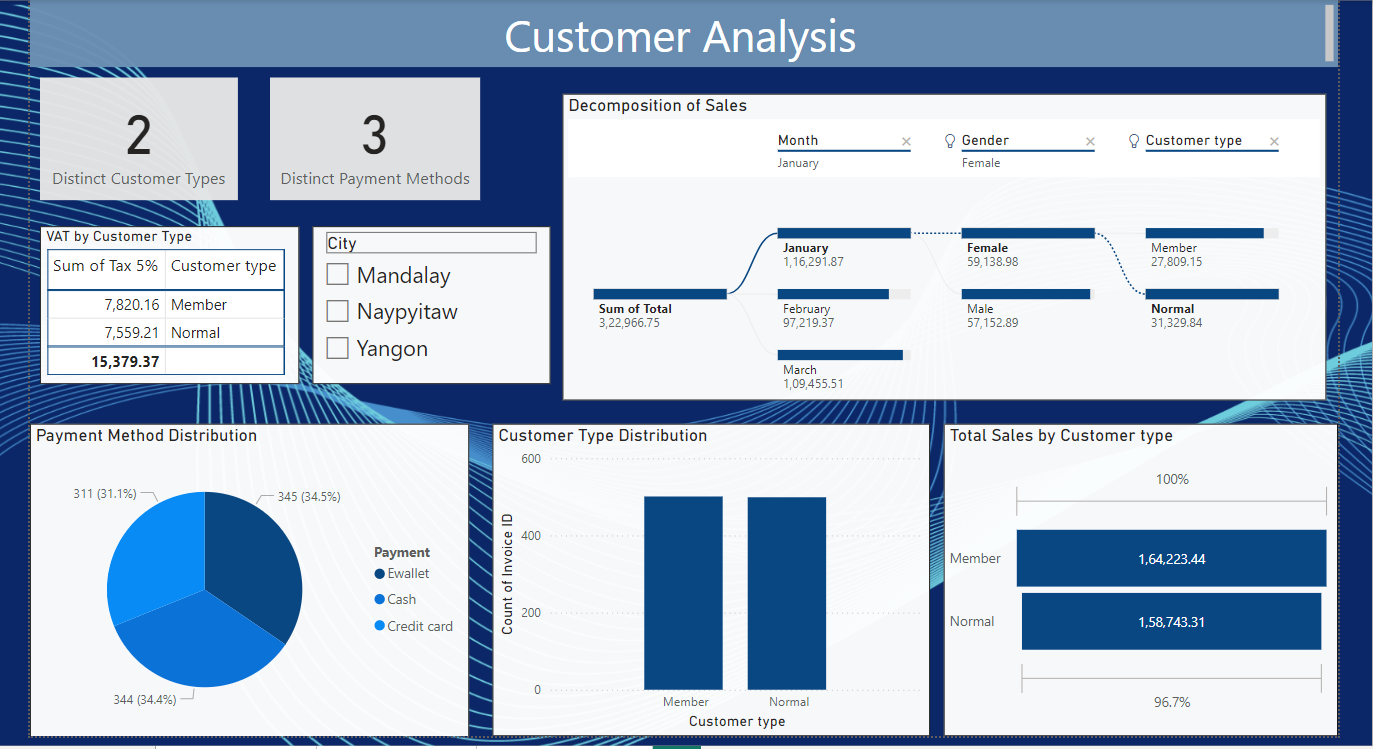

Layout of this report page (visuals, bound fields, positions):
{"tool":"powerbi","page":{"name":"Customer Analysis","canvas":[1280,720],"ordinal":2},"visuals":[{"type":"textbox","box":[0,0,1280.3,65.9],"z":0},{"type":"pieChart","title":"Payment Method Distribution","fields":{"Y":["CountNonNull(Amazon.Invoice ID)"],"Category":["Amazon.Payment"]},"box":[0,414.4,429.5,306],"z":1000},{"type":"card","fields":{"Values":["Count(Amazon.Customer type)"]},"box":[9.5,76.4,193.6,120],"z":2000},{"type":"card","fields":{"Values":["Count(Amazon.Payment)"]},"box":[234.5,76.4,205.9,120],"z":3000},{"type":"columnChart","title":"Customer Type Distribution","fields":{"Y":["CountNonNull(Amazon.Invoice ID)"],"Category":["Amazon.Customer type"]},"box":[452.7,414.5,428.1,305.4],"z":4000},{"type":"funnel","title":"Total Sales by Customer type","fields":{"Category":["Amazon.Customer type"],"Y":["Sum(Amazon.Total)"]},"box":[894.4,414.5,385.9,305.4],"z":5000},{"type":"tableEx","title":"VAT by Customer Type","fields":{"Values":["Sum(Amazon.Tax 5%)","Amazon.Customer type"]},"box":[9.5,220.9,253.6,154.1],"z":6000},{"type":"decompositionTreeVisual","title":"Decomposition of Sales","fields":{"ExplainBy":["Amazon.Date.Variation.Date Hierarchy.Month","Amazon.Gender","Amazon.Customer type"],"Analyze":["Sum(Amazon.Total)"]},"box":[520.8,91.4,747.2,300],"z":7000},{"type":"slicer","fields":{"Values":["Amazon.City"]},"box":[276.8,220.9,233.1,154.1],"z":7001}]}

Visuals, with their boxes in screenshot pixels (x1, y1, x2, y2):
textbox: l=25, t=0, r=1335, b=64
"Payment Method Distribution" pieChart: l=25, t=421, r=465, b=734
card - Count(Amazon.Customer type): l=35, t=75, r=233, b=197
card - Count(Amazon.Payment): l=265, t=75, r=476, b=197
"Customer Type Distribution" columnChart: l=488, t=421, r=927, b=733
"Total Sales by Customer type" funnel: l=940, t=421, r=1335, b=733
"VAT by Customer Type" tableEx: l=35, t=223, r=294, b=380
"Decomposition of Sales" decompositionTreeVisual: l=558, t=90, r=1323, b=397
slicer - Amazon.City: l=308, t=223, r=547, b=380
